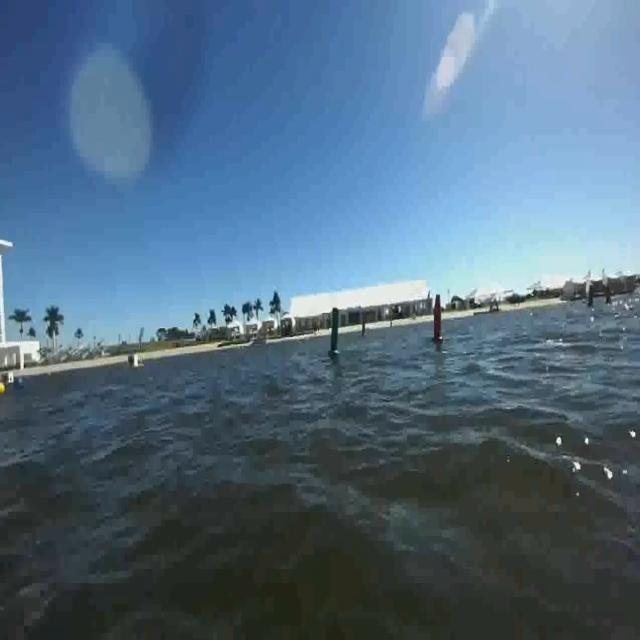green-column-buoy: (327, 307, 342, 358)
red-column-buoy: (430, 294, 444, 344)
yellow-duck: (0, 382, 6, 396)
